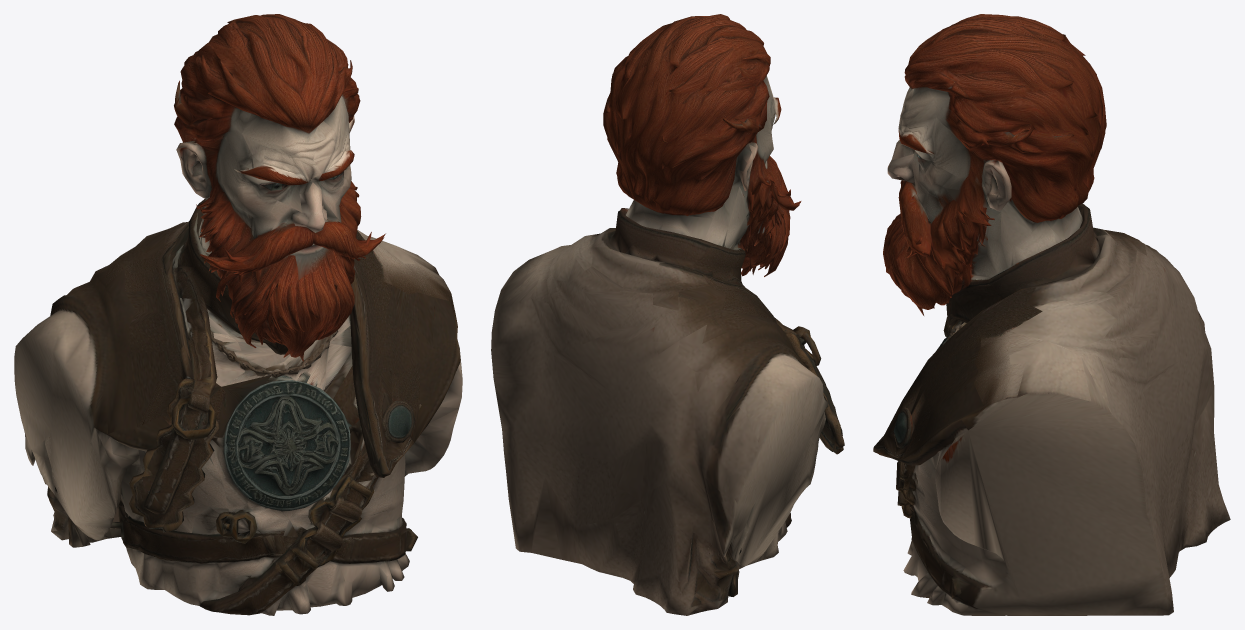
File: sitter_10.glb
3 renders of one model, left to right at view 1: azimuth 30°, elevation 25°; view 2: azimuth 150°, elevation 25°; view 3: azimuth 270°, elevation 25°, orthographic. The views are drawn at different scales.
Parts seen in each view (by area): view 1: sitter_10; view 2: sitter_10; view 3: sitter_10.
Boxes of the visible parts, left/top/right/bottom form: sitter_10: left=14, top=14, right=462, bottom=615; sitter_10: left=491, top=14, right=844, bottom=615; sitter_10: left=873, top=14, right=1230, bottom=615.
Bounding box in the file's own units: 0.926 × 1.4 × 0.8398.
Materials: 1 (1 with a texture image).
